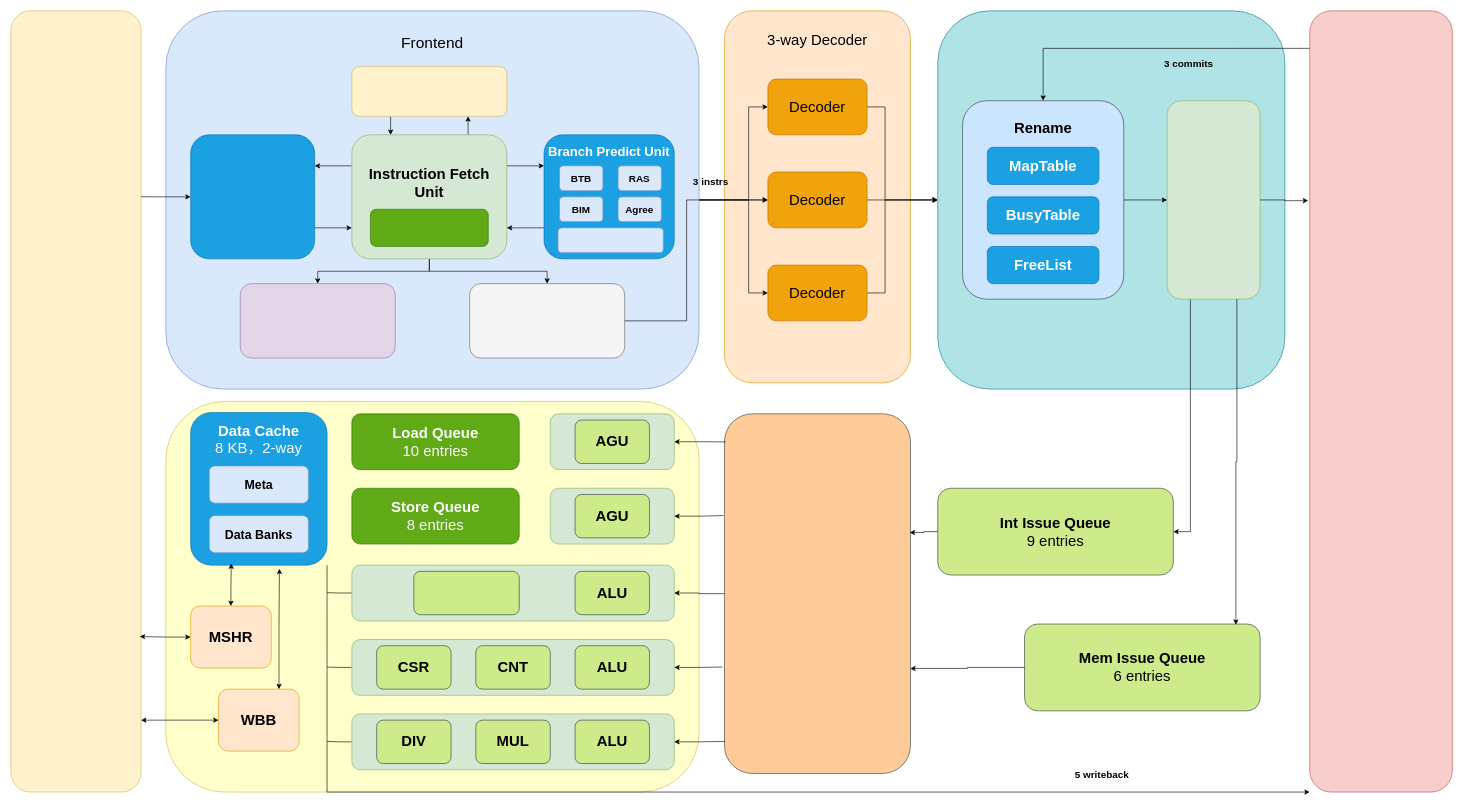
Some shapes in this 1463 by 808 pixel diagram are drawn without their labels. The shapes that lost their labels are listed below. From the top down, each one's centre as x and y in pixels, then its label:
(x=429, y=91): NPC
(x=252, y=196): Instruction Cache 16KB，4-way
(x=1213, y=199): Dispatch
(x=429, y=227): PreDecoder
(x=610, y=240): MiniTage
(x=317, y=320): Fetch Target Queue 16 entries
(x=547, y=320): Instruction Buffer 12 entries
(x=75, y=401): L2 Cache
(x=1380, y=401): Reorder Buffer 33 entries
(x=466, y=593): Branch Unit
(x=817, y=593): Register File
